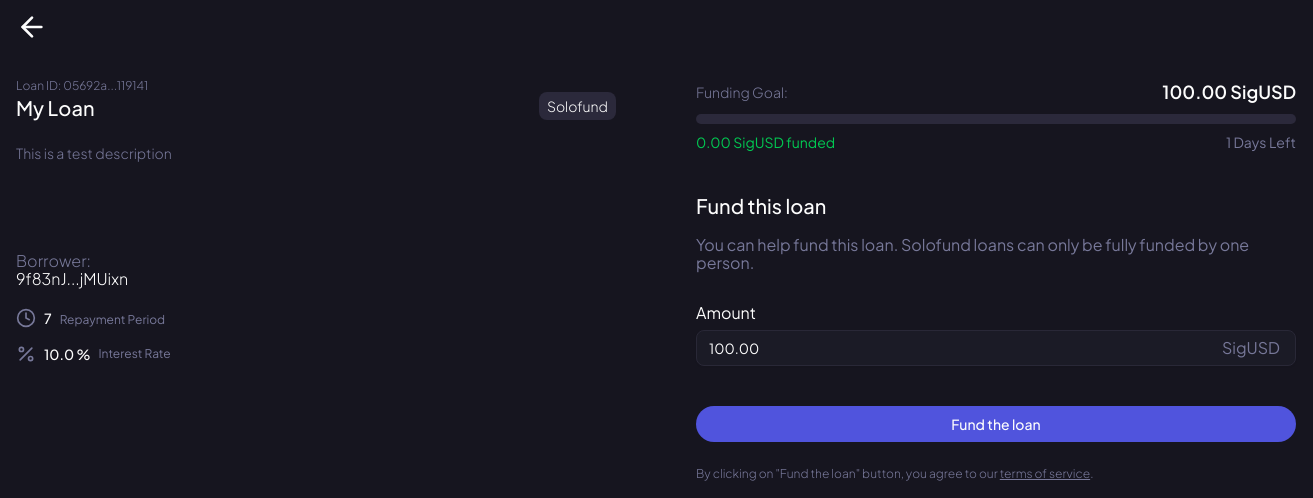
Scenario: LoanDetails › Loading States › should show loading state while submitting
The image size is (1313, 498).
Click the button "Fund the loan" at (996, 424), box [696,406,1296,442]
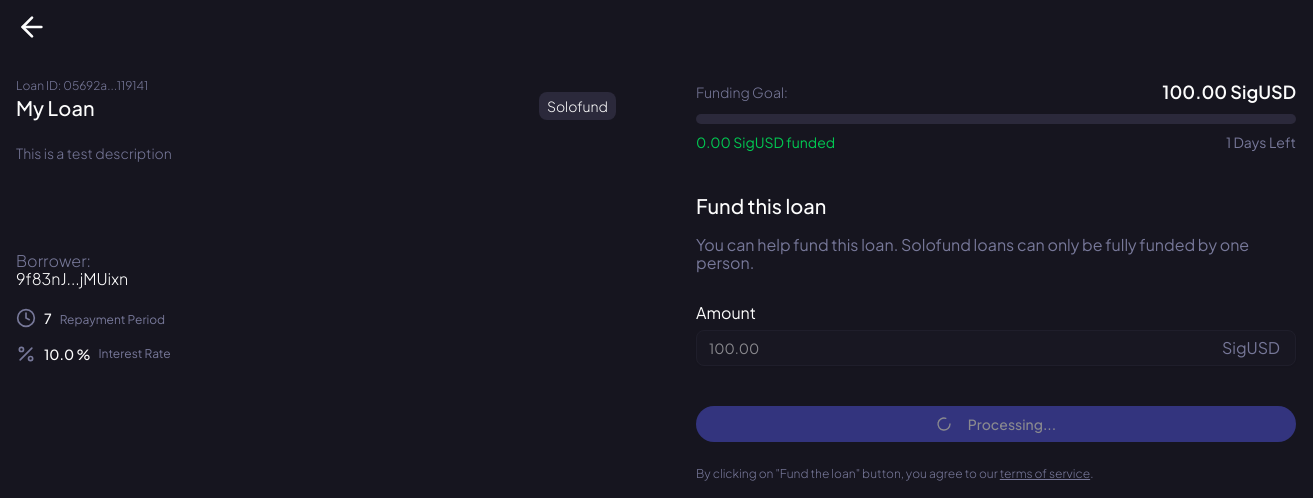
Expected: the button "Processing..." is shown, [696,406,1296,442]
